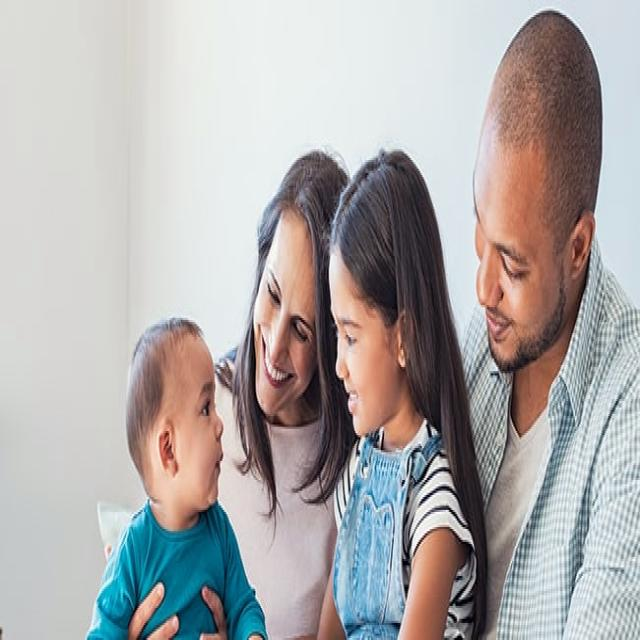adult: (448, 10, 640, 640), (208, 147, 353, 640)
child: (318, 150, 487, 640), (82, 315, 268, 640)
